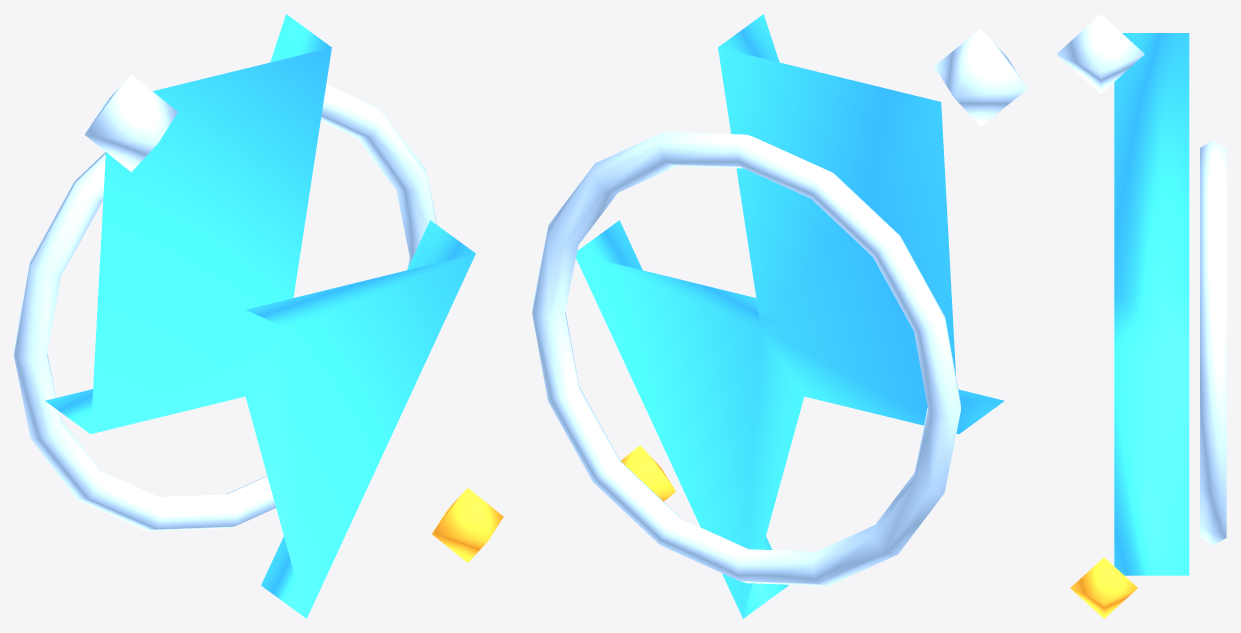
File: minglora_momentum_boost.gltf
The picture shows the model from 3 angles, left to right: view 1: azimuth 30°, elevation 25°; view 2: azimuth 150°, elevation 25°; view 3: azimuth 270°, elevation 25°; orthographic projection. The views are drawn at different scales.
Visible parts, largest first — view 1: ion lightning crystal, platinum energy halo, upper energy core, lower energy core; view 2: ion lightning crystal, platinum energy halo, upper energy core, lower energy core; view 3: ion lightning crystal, platinum energy halo, upper energy core, lower energy core.
Boxes of the visible parts, box(x1,y1,x2,y2) form: ion lightning crystal: box(45, 14, 475, 618); platinum energy halo: box(14, 84, 437, 531); upper energy core: box(84, 74, 177, 172); lower energy core: box(432, 488, 503, 562); ion lightning crystal: box(576, 14, 1004, 618); platinum energy halo: box(532, 131, 960, 585); upper energy core: box(934, 29, 1027, 126); lower energy core: box(621, 445, 675, 501); ion lightning crystal: box(1114, 33, 1189, 575); platinum energy halo: box(1200, 140, 1226, 545); upper energy core: box(1056, 14, 1144, 93); lower energy core: box(1070, 557, 1137, 618).
Size of the model in its own units: 1.19 by 1.58 by 0.499.
